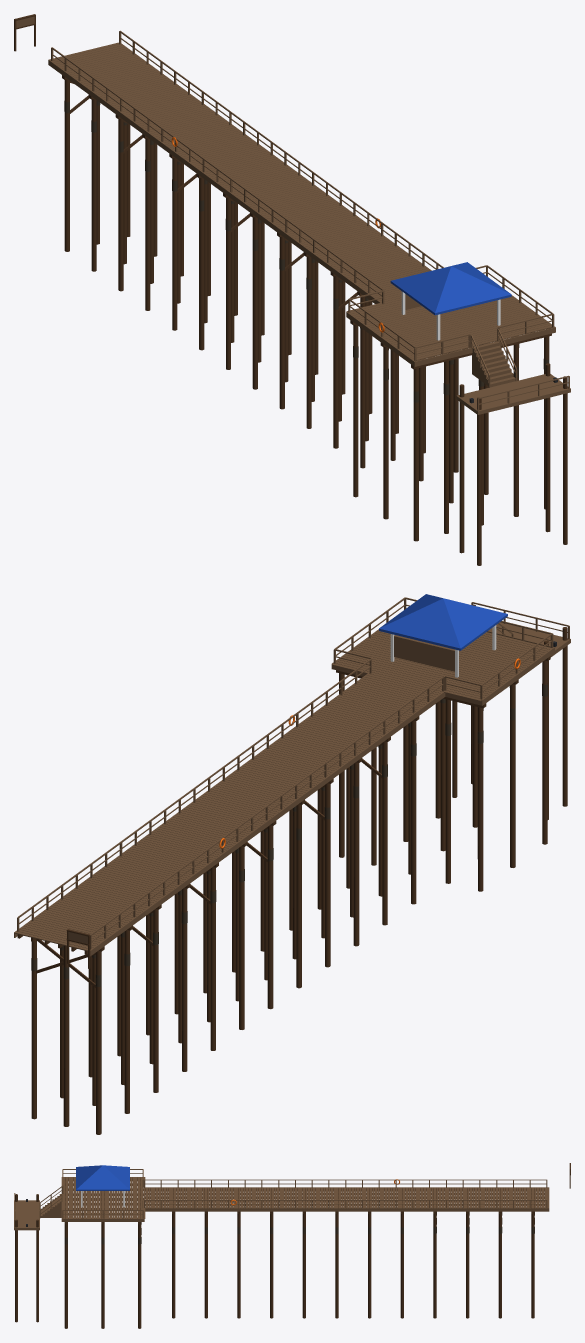
The model's file is SM_Harbor_Pier.fbx.
3 views of the same model, one above another, from view 1: azimuth 30°, elevation 25°; view 2: azimuth 150°, elevation 25°; view 3: azimuth 270°, elevation 25° (orthographic). The views are drawn at different scales.
Parts seen in each view (by area): view 1: SM_Harbor_Pier; view 2: SM_Harbor_Pier; view 3: SM_Harbor_Pier.
Part boxes in pixels (x1,y1,x2,y2): SM_Harbor_Pier: (14, 14, 570, 565); SM_Harbor_Pier: (14, 594, 570, 1134); SM_Harbor_Pier: (14, 1163, 570, 1328).
Size of the model in its own units: 12.16 by 19.4 by 68.19.
